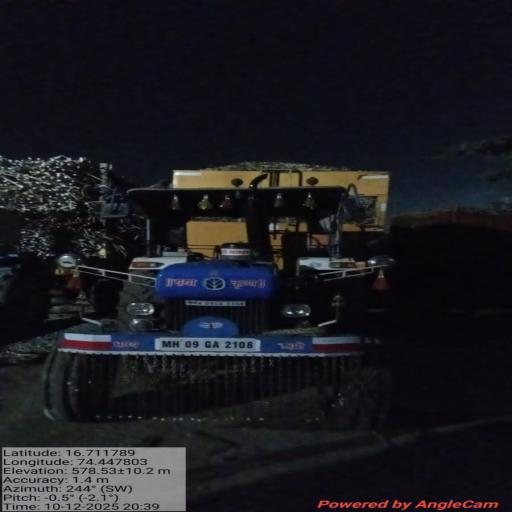number_plate: (148, 337, 272, 358)
